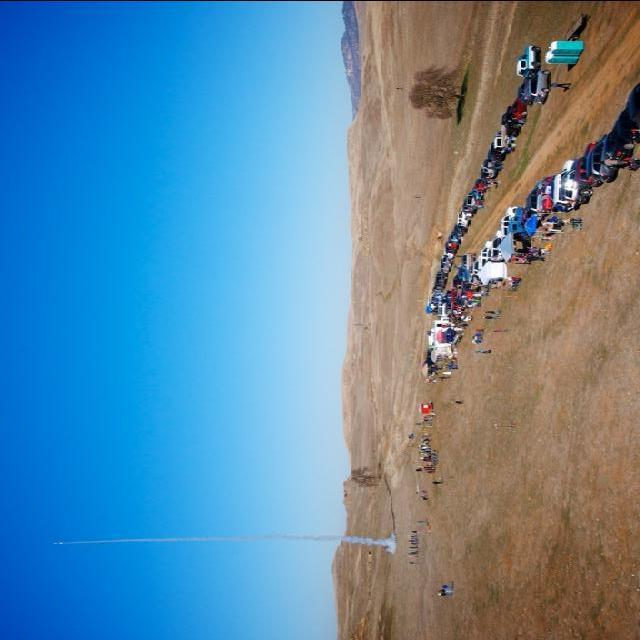missile: (48, 538, 68, 545)
